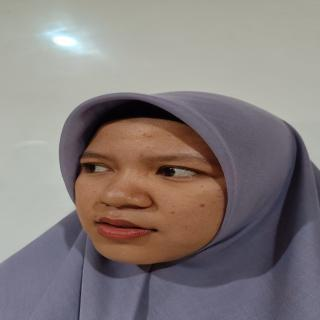Takut: (63, 112, 244, 276)
